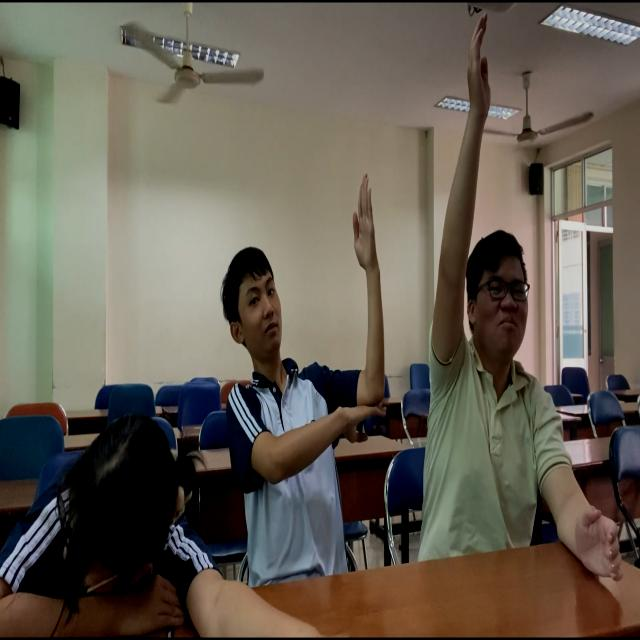raise_hand: (413, 10, 640, 625), (221, 174, 391, 631)
sleep: (3, 361, 324, 640)
